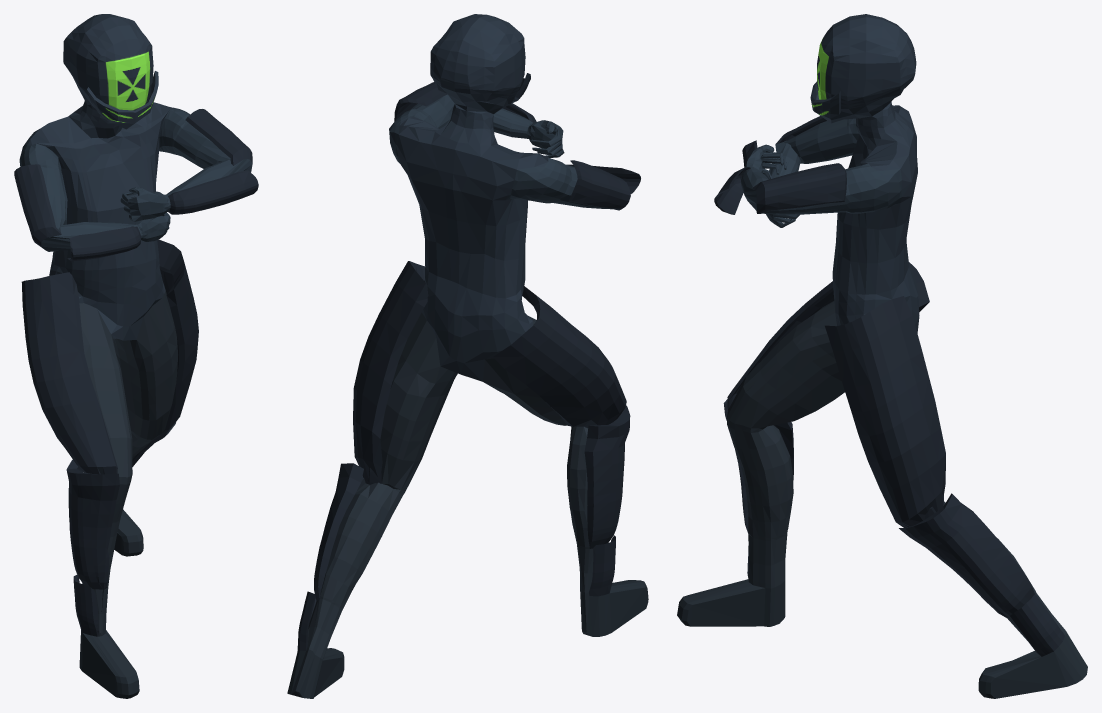
The model's file is Bastion_WF_000002.obj.
3 renders of one model, left to right at view 1: azimuth 30°, elevation 25°; view 2: azimuth 150°, elevation 25°; view 3: azimuth 270°, elevation 25°, orthographic. The views are drawn at different scales.
Visible parts, largest first — view 1: Cube.002; view 2: Cube.002; view 3: Cube.002.
Boxes of the visible parts, x1,y1,x2,y2 form: Cube.002: (14,14,258,698); Cube.002: (287,14,648,698); Cube.002: (677,14,1087,698).
Bounding box in the file's own units: 1.33 × 3.6 × 2.1.
